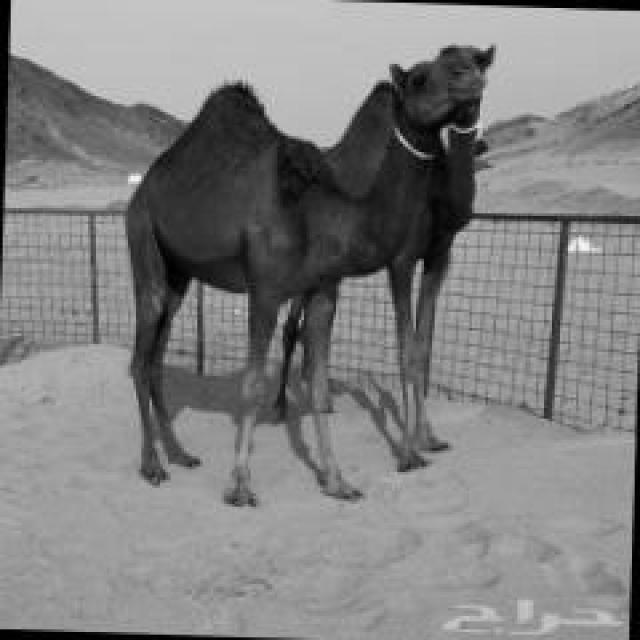Camel: (123, 40, 496, 507), (307, 28, 494, 476)
